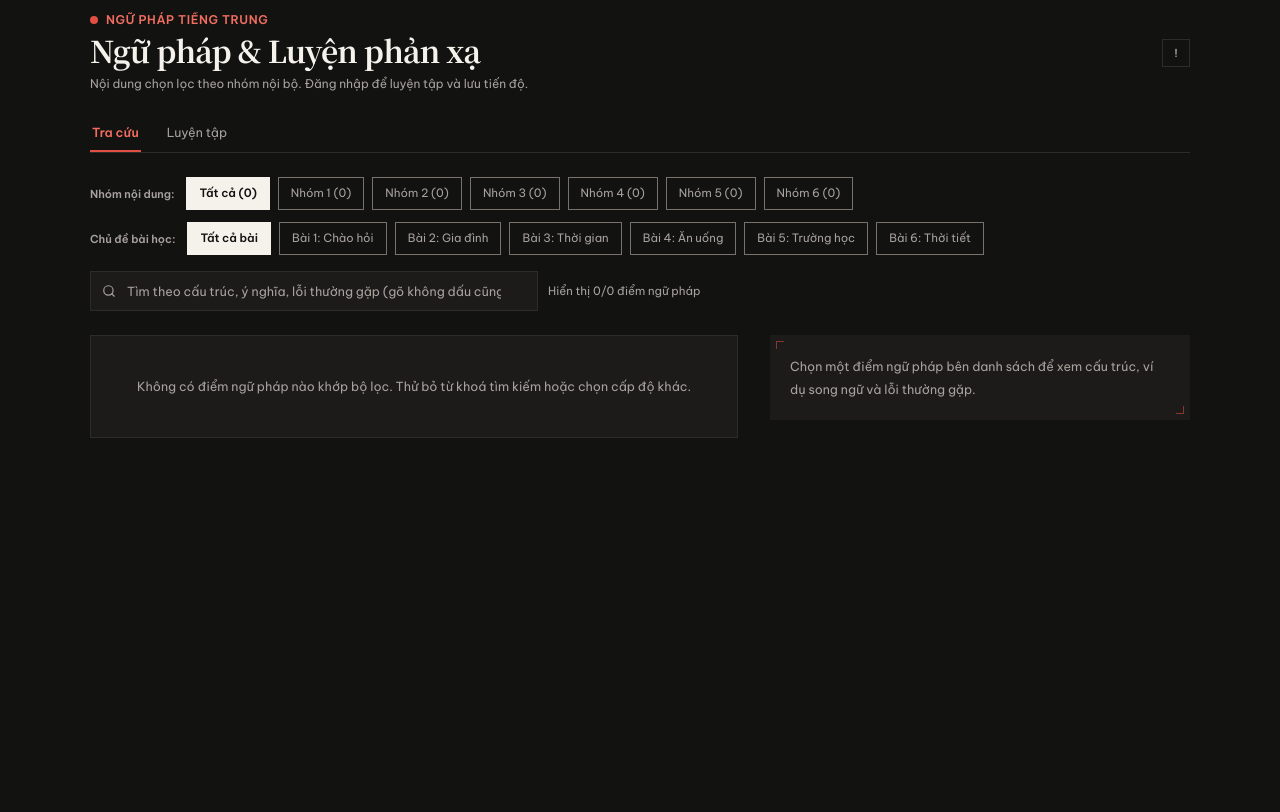
it: HSK Grammar Lab (GrammarView) › validates exercise cleanly and awards companion bamboo shoots + RedSealStamp
Open Practice mode
Click the button "Luyện tập" at (197, 137), box [165,122,229,152]
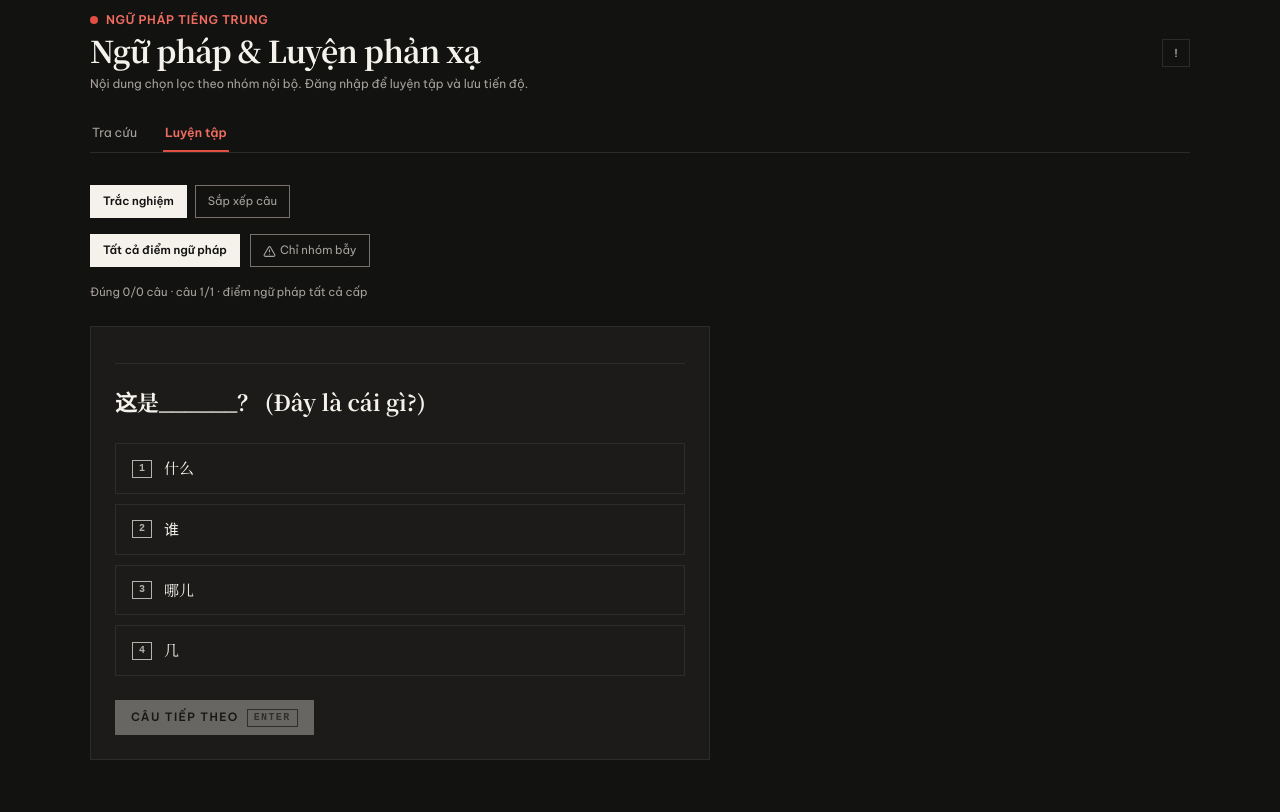
Expected: the text "这是______？ (Đây là cái gì?)" is shown, [115,386,426,417]
Choose correct answer '什么'
Click the button "1 什么" at (179, 468), box [115,443,685,494]
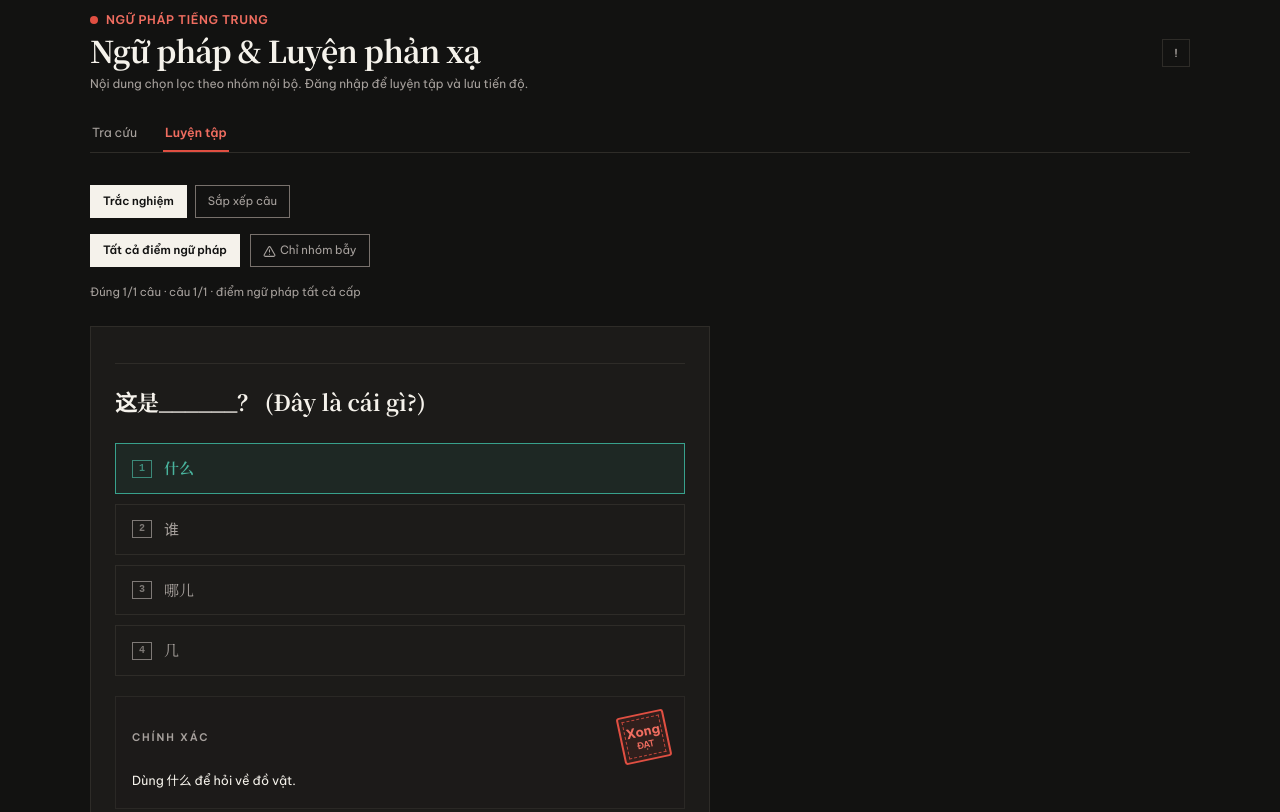
Expected: the text "Chính xác" is shown, [132,729,209,746]
Expected: the text "Xong" is shown, [625,722,661,742]
